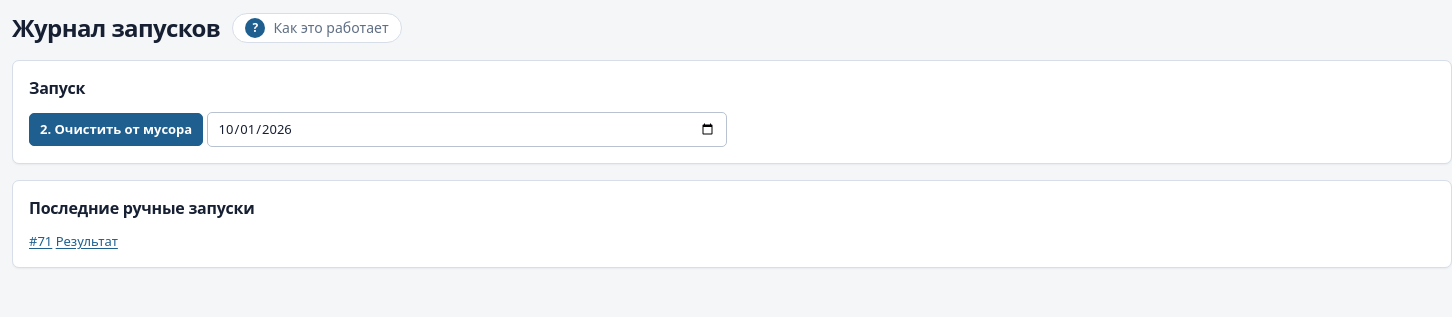
Scenario: says a refusal in the legacy page's own words and stays
This screenshot has width=1452, height=317.
Click the button "2. Очистить от мусора" at coordinates (116, 130), box top-left (29, 113), bottom-right (203, 146)
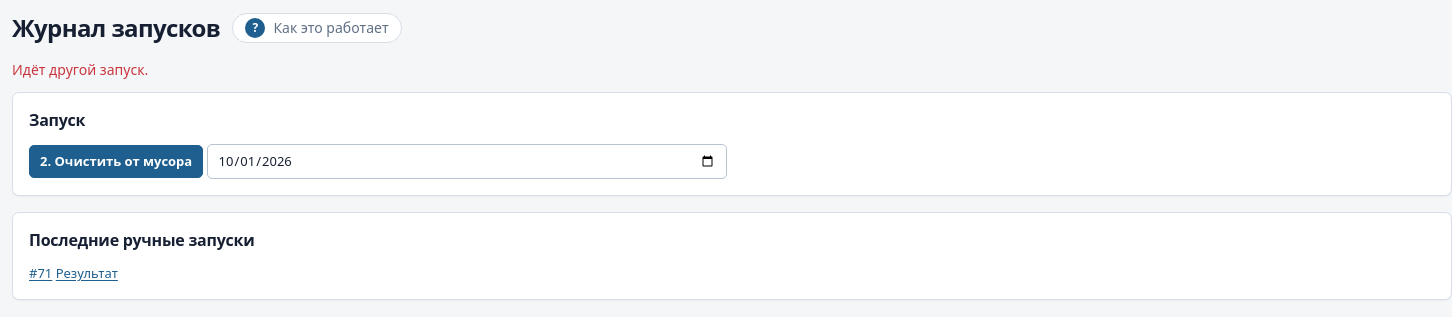
Expected: the heading "Последние ручные запуски" is shown, top-left (29, 229), bottom-right (254, 251)
Expected: the message reads "Идёт другой запуск.", top-left (12, 60), bottom-right (148, 79)
